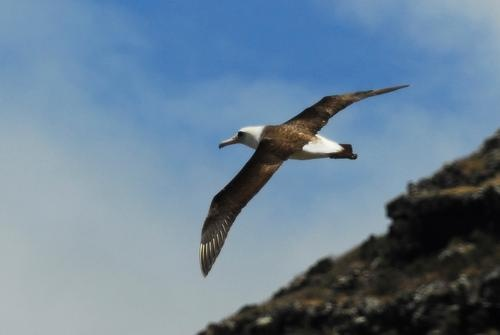bird: (196, 83, 413, 280)
